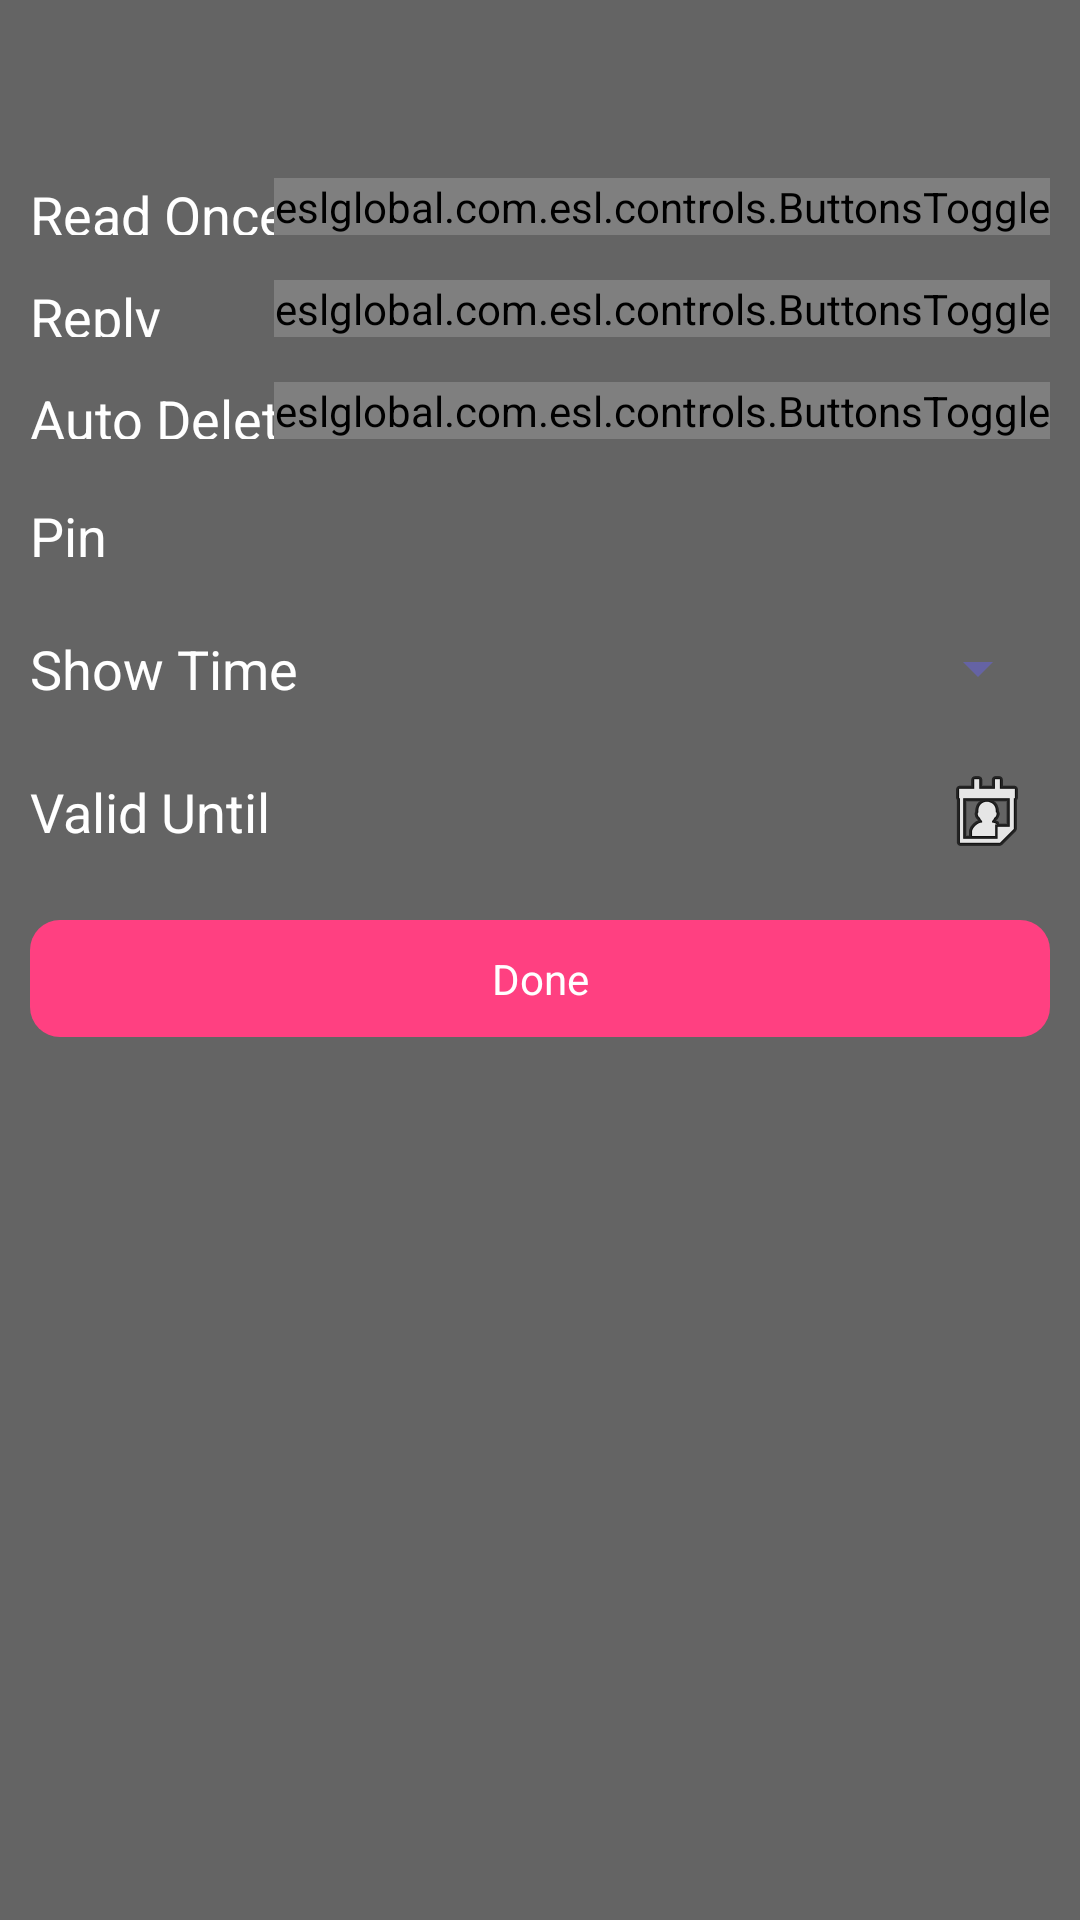

Icon click points for this 1080*1920 phone screenshot, format point (x, y):
calendar: point (987, 811)
